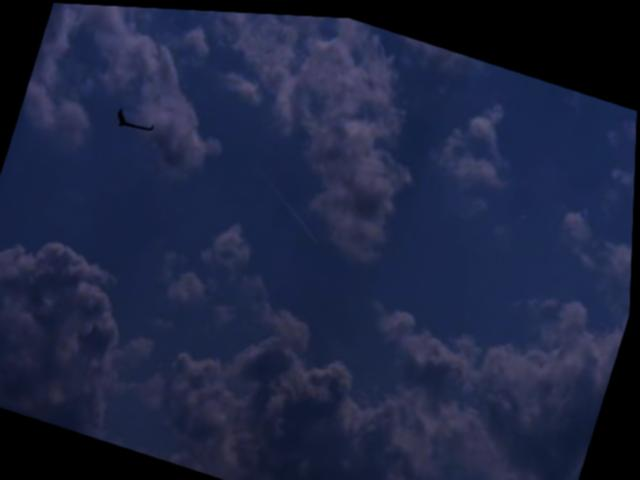flying wing: (114, 102, 159, 138)
